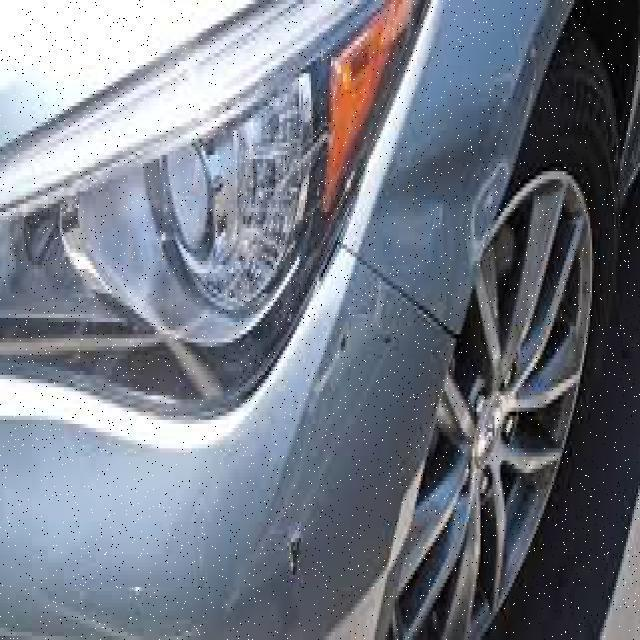car damage: (0, 240, 443, 636)
